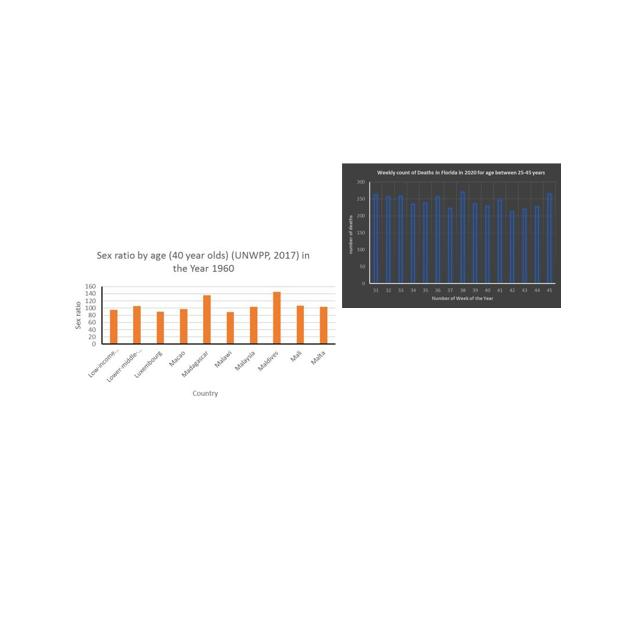Graph: (64, 247, 339, 400), (342, 163, 561, 308)
